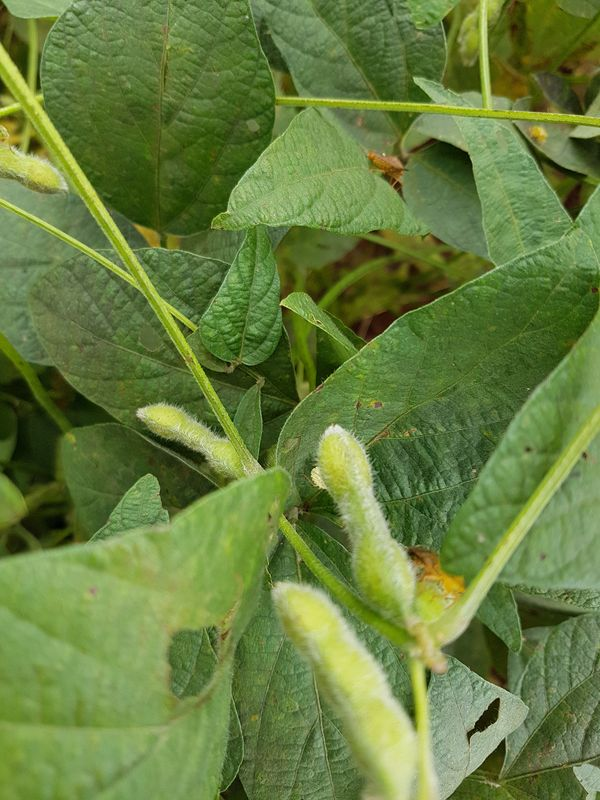Euschistus_heros_adulto: (357, 142, 417, 195)
